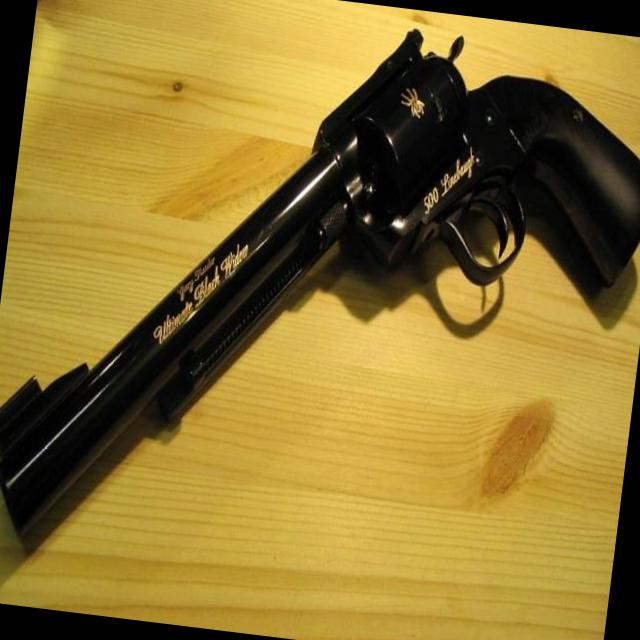Gun: (0, 29, 640, 530)
